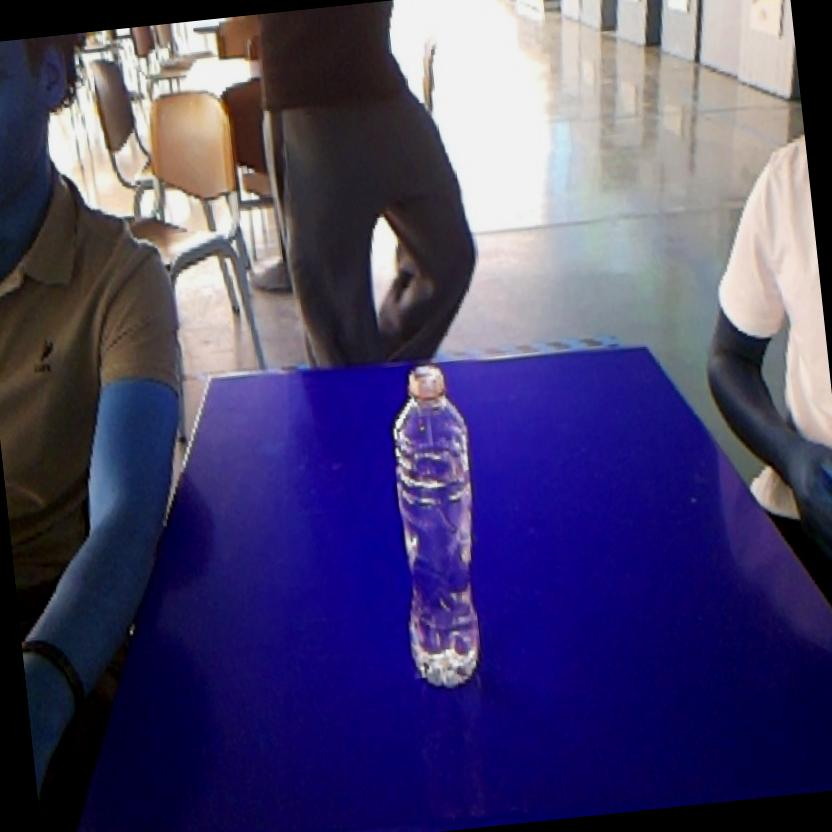no_cap: (370, 352, 502, 698)
